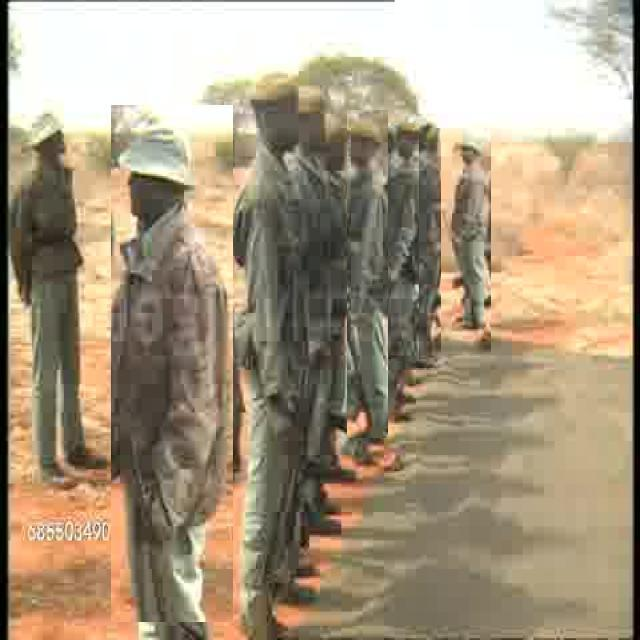poacher: (111, 105, 233, 622), (11, 112, 112, 503), (240, 64, 310, 603), (347, 110, 388, 438), (298, 75, 330, 473), (441, 128, 491, 354), (388, 123, 419, 361)
